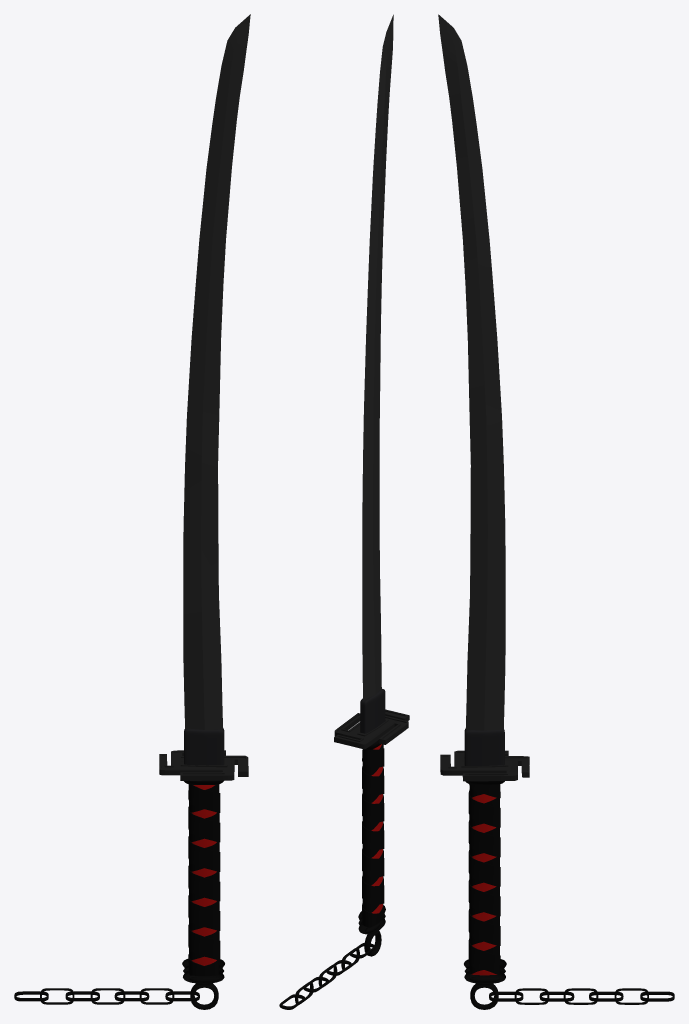
The model's file is ichigoBankai2.fbx.
3 views of the same model, side by side, from view 1: azimuth 90°, elevation 25°; view 2: azimuth 150°, elevation 25°; view 3: azimuth 270°, elevation 25° (orthographic). The views are drawn at different scales.
Parts seen in each view (by area): view 1: Blade, Plane.002, Tsuba, Habaki, Plane.001, Tsuka, Cube.005; view 2: Blade, Plane.002, Tsuba, Plane.001, Habaki, Tsuka, Cube.005; view 3: Blade, Plane.002, Tsuba, Habaki, Plane.001, Tsuka, Cube.005.
Part boxes in pixels (x1,y1,x2,y2): Blade: (183, 14, 250, 729); Plane.002: (188, 784, 220, 975); Tsuba: (159, 750, 248, 780); Habaki: (184, 728, 224, 765); Plane.001: (189, 784, 219, 975); Tsuka: (182, 780, 224, 1009); Cube.005: (191, 785, 216, 965); Blade: (362, 14, 393, 700); Plane.002: (362, 748, 384, 927); Tsuba: (334, 709, 409, 749); Plane.001: (362, 744, 383, 921); Habaki: (360, 689, 385, 733); Tsuka: (358, 740, 385, 956); Cube.005: (371, 744, 382, 913); Blade: (438, 14, 505, 730); Plane.002: (468, 784, 500, 974); Tsuba: (440, 750, 529, 781); Habaki: (464, 729, 504, 765); Plane.001: (469, 786, 499, 973); Tsuka: (462, 776, 506, 1009); Cube.005: (471, 794, 497, 975).
Size of the model in its own units: 29.89 by 544 by 117.
